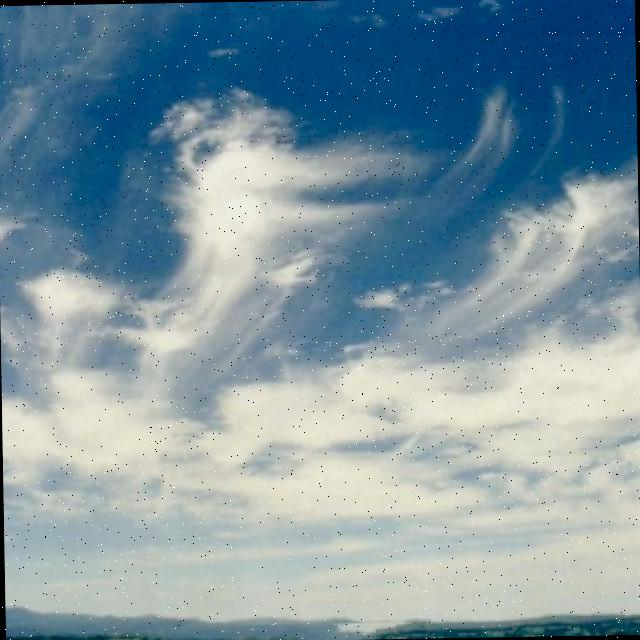Ci: (4, 17, 640, 514)
